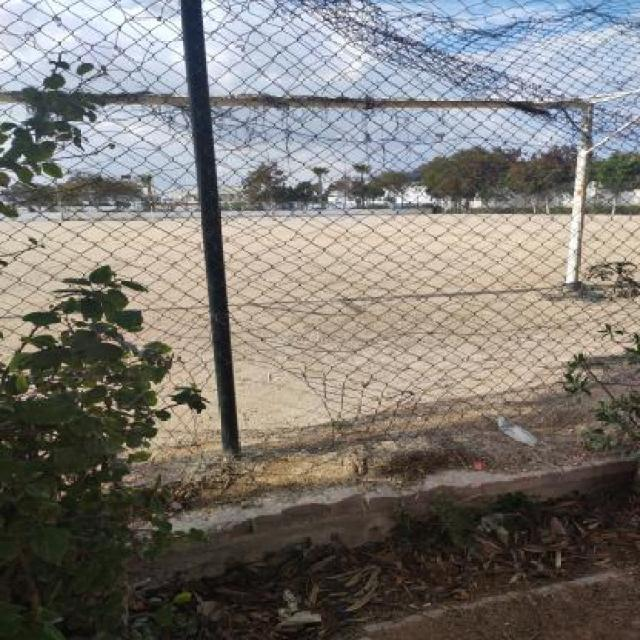fence line: (218, 350, 335, 450)
